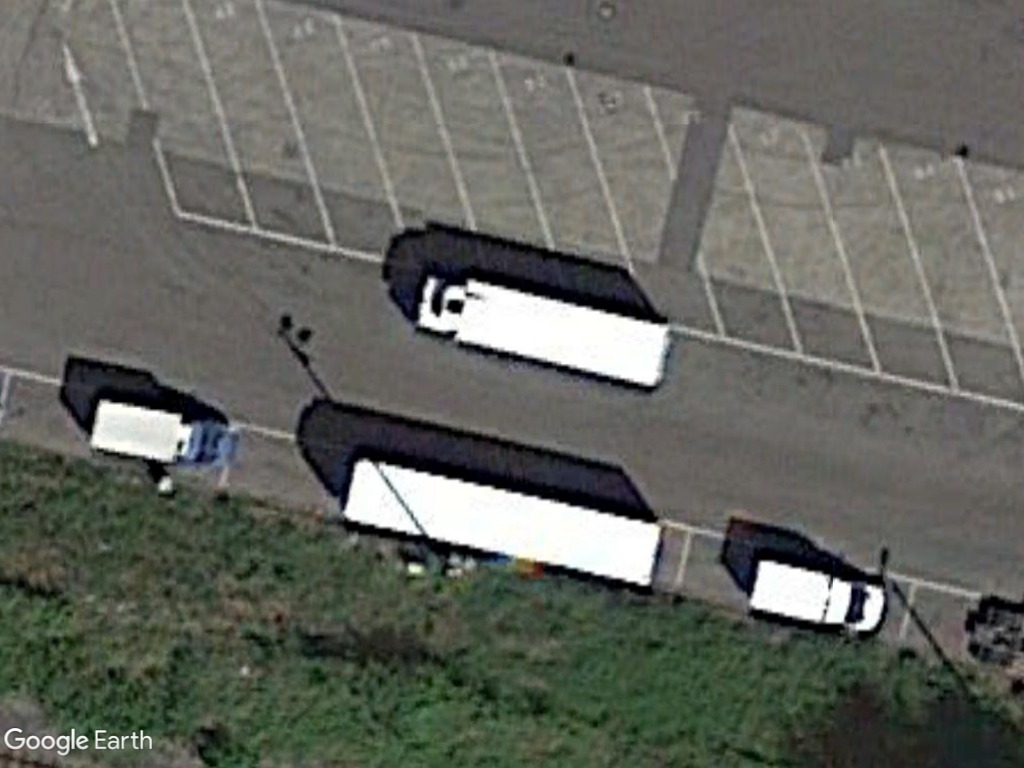longvehicle: (332, 452, 667, 597)
truck: (406, 268, 679, 394), (741, 551, 890, 642), (84, 395, 241, 473)
